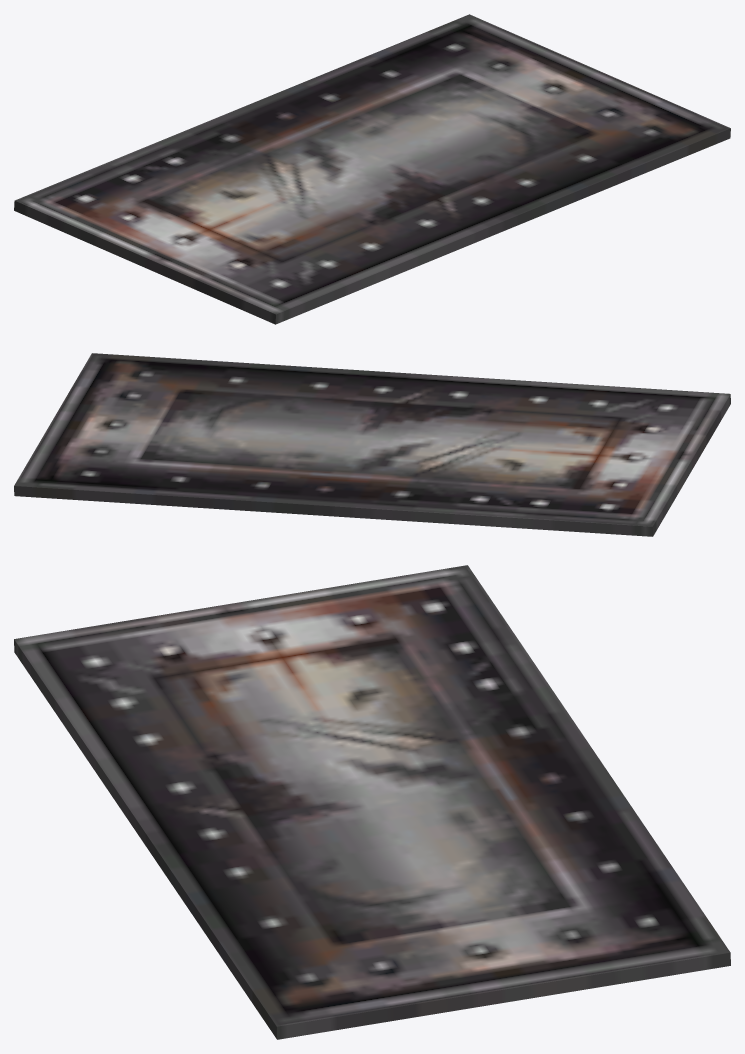
File: battlegladeshield1.glb
3 renders of one model, top to bottom at view 1: azimuth 30°, elevation 25°; view 2: azimuth 150°, elevation 25°; view 3: azimuth 270°, elevation 25°, orthographic. The views are drawn at different scales.
Bounding box in the file's own units: 1.66 × 0.1049 × 1.2.
Materials: 1 (1 with a texture image).
